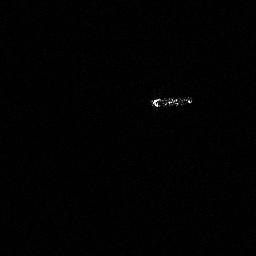ship: (147, 93, 196, 111)
